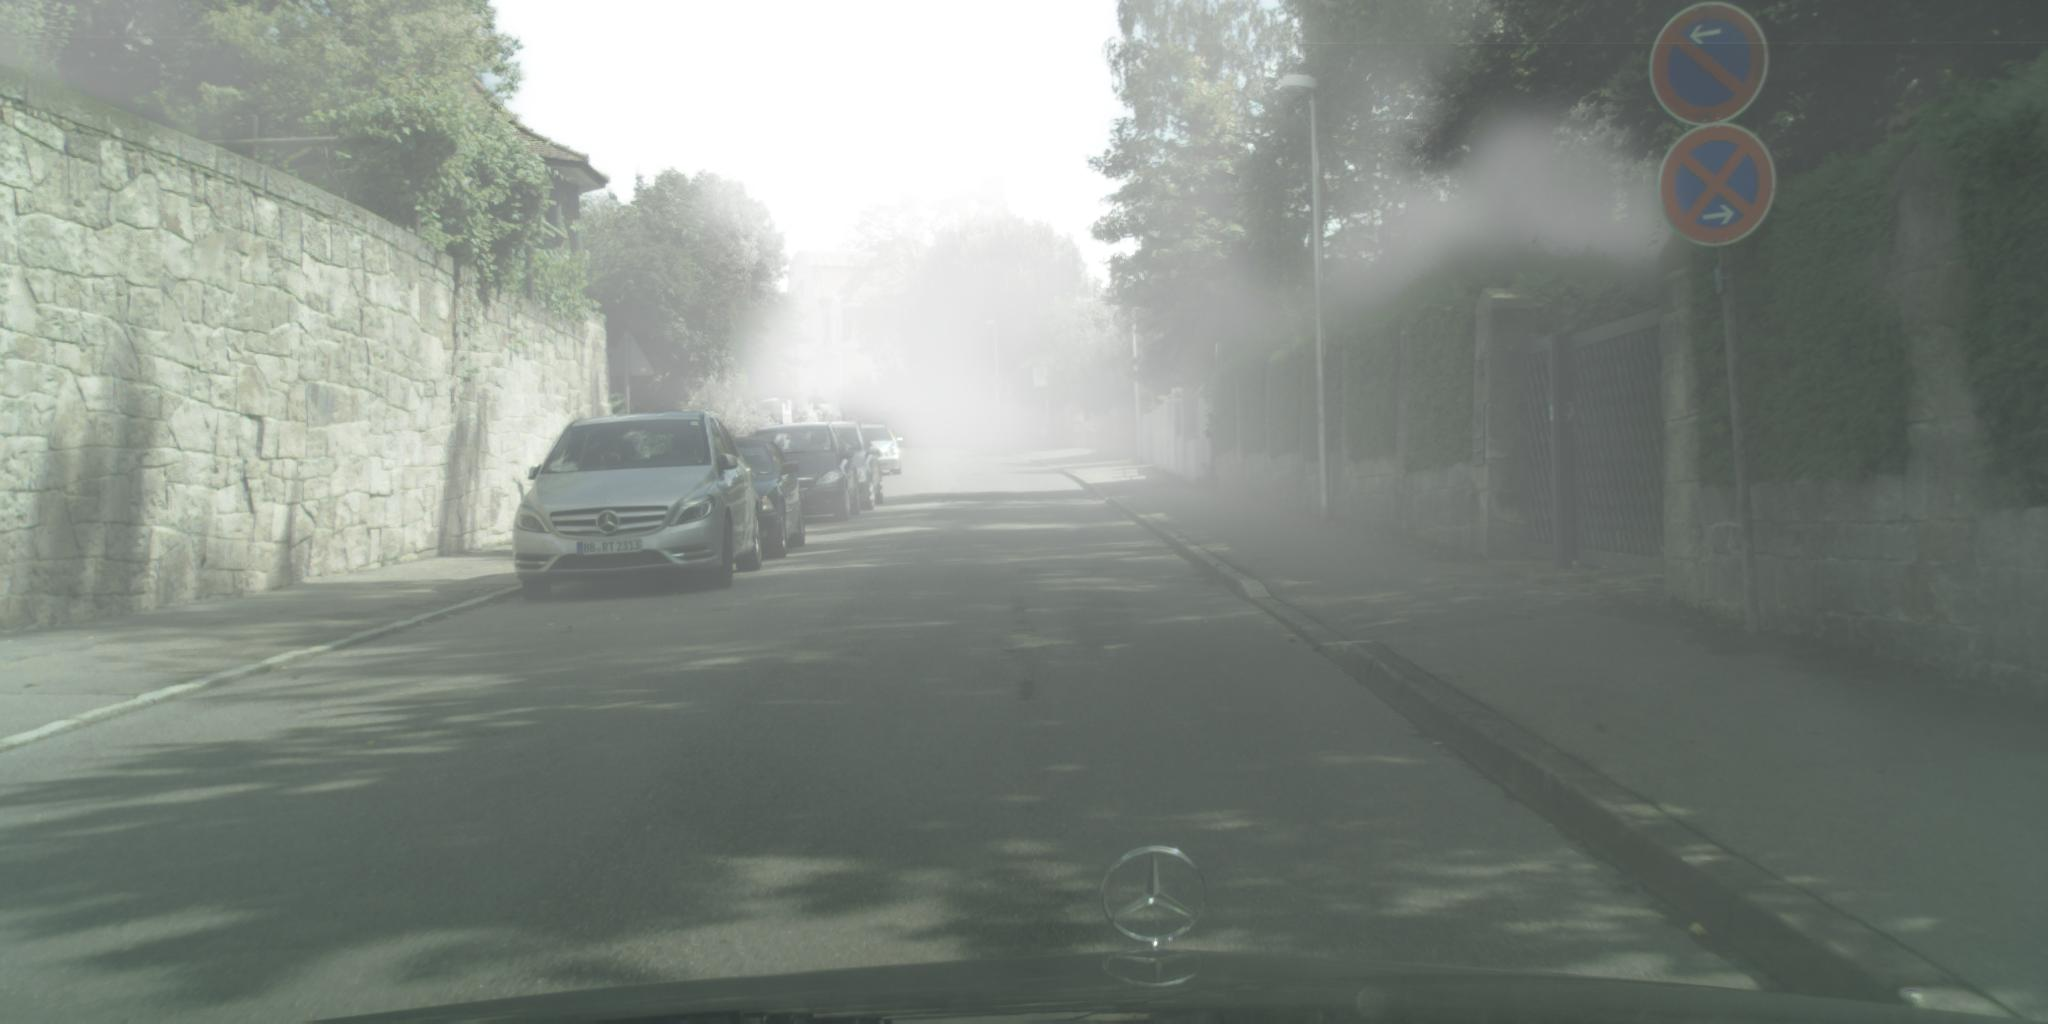car: (513, 413, 764, 602), (752, 423, 861, 522), (731, 438, 807, 560), (828, 422, 886, 512), (856, 424, 906, 475)
